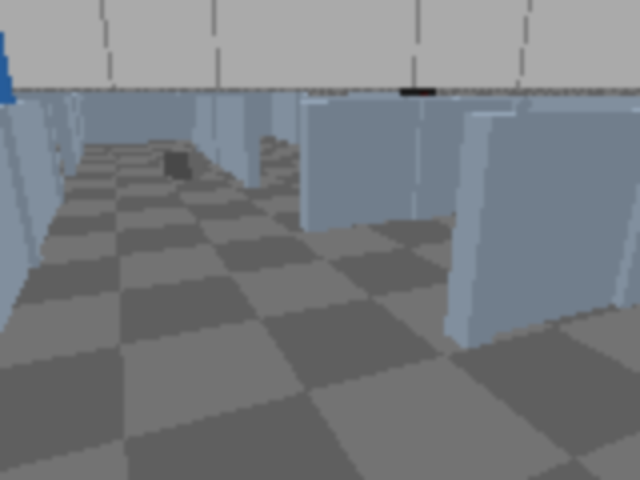obstacle: (163, 149, 205, 180)
person: (0, 0, 28, 179), (0, 0, 8, 202)
